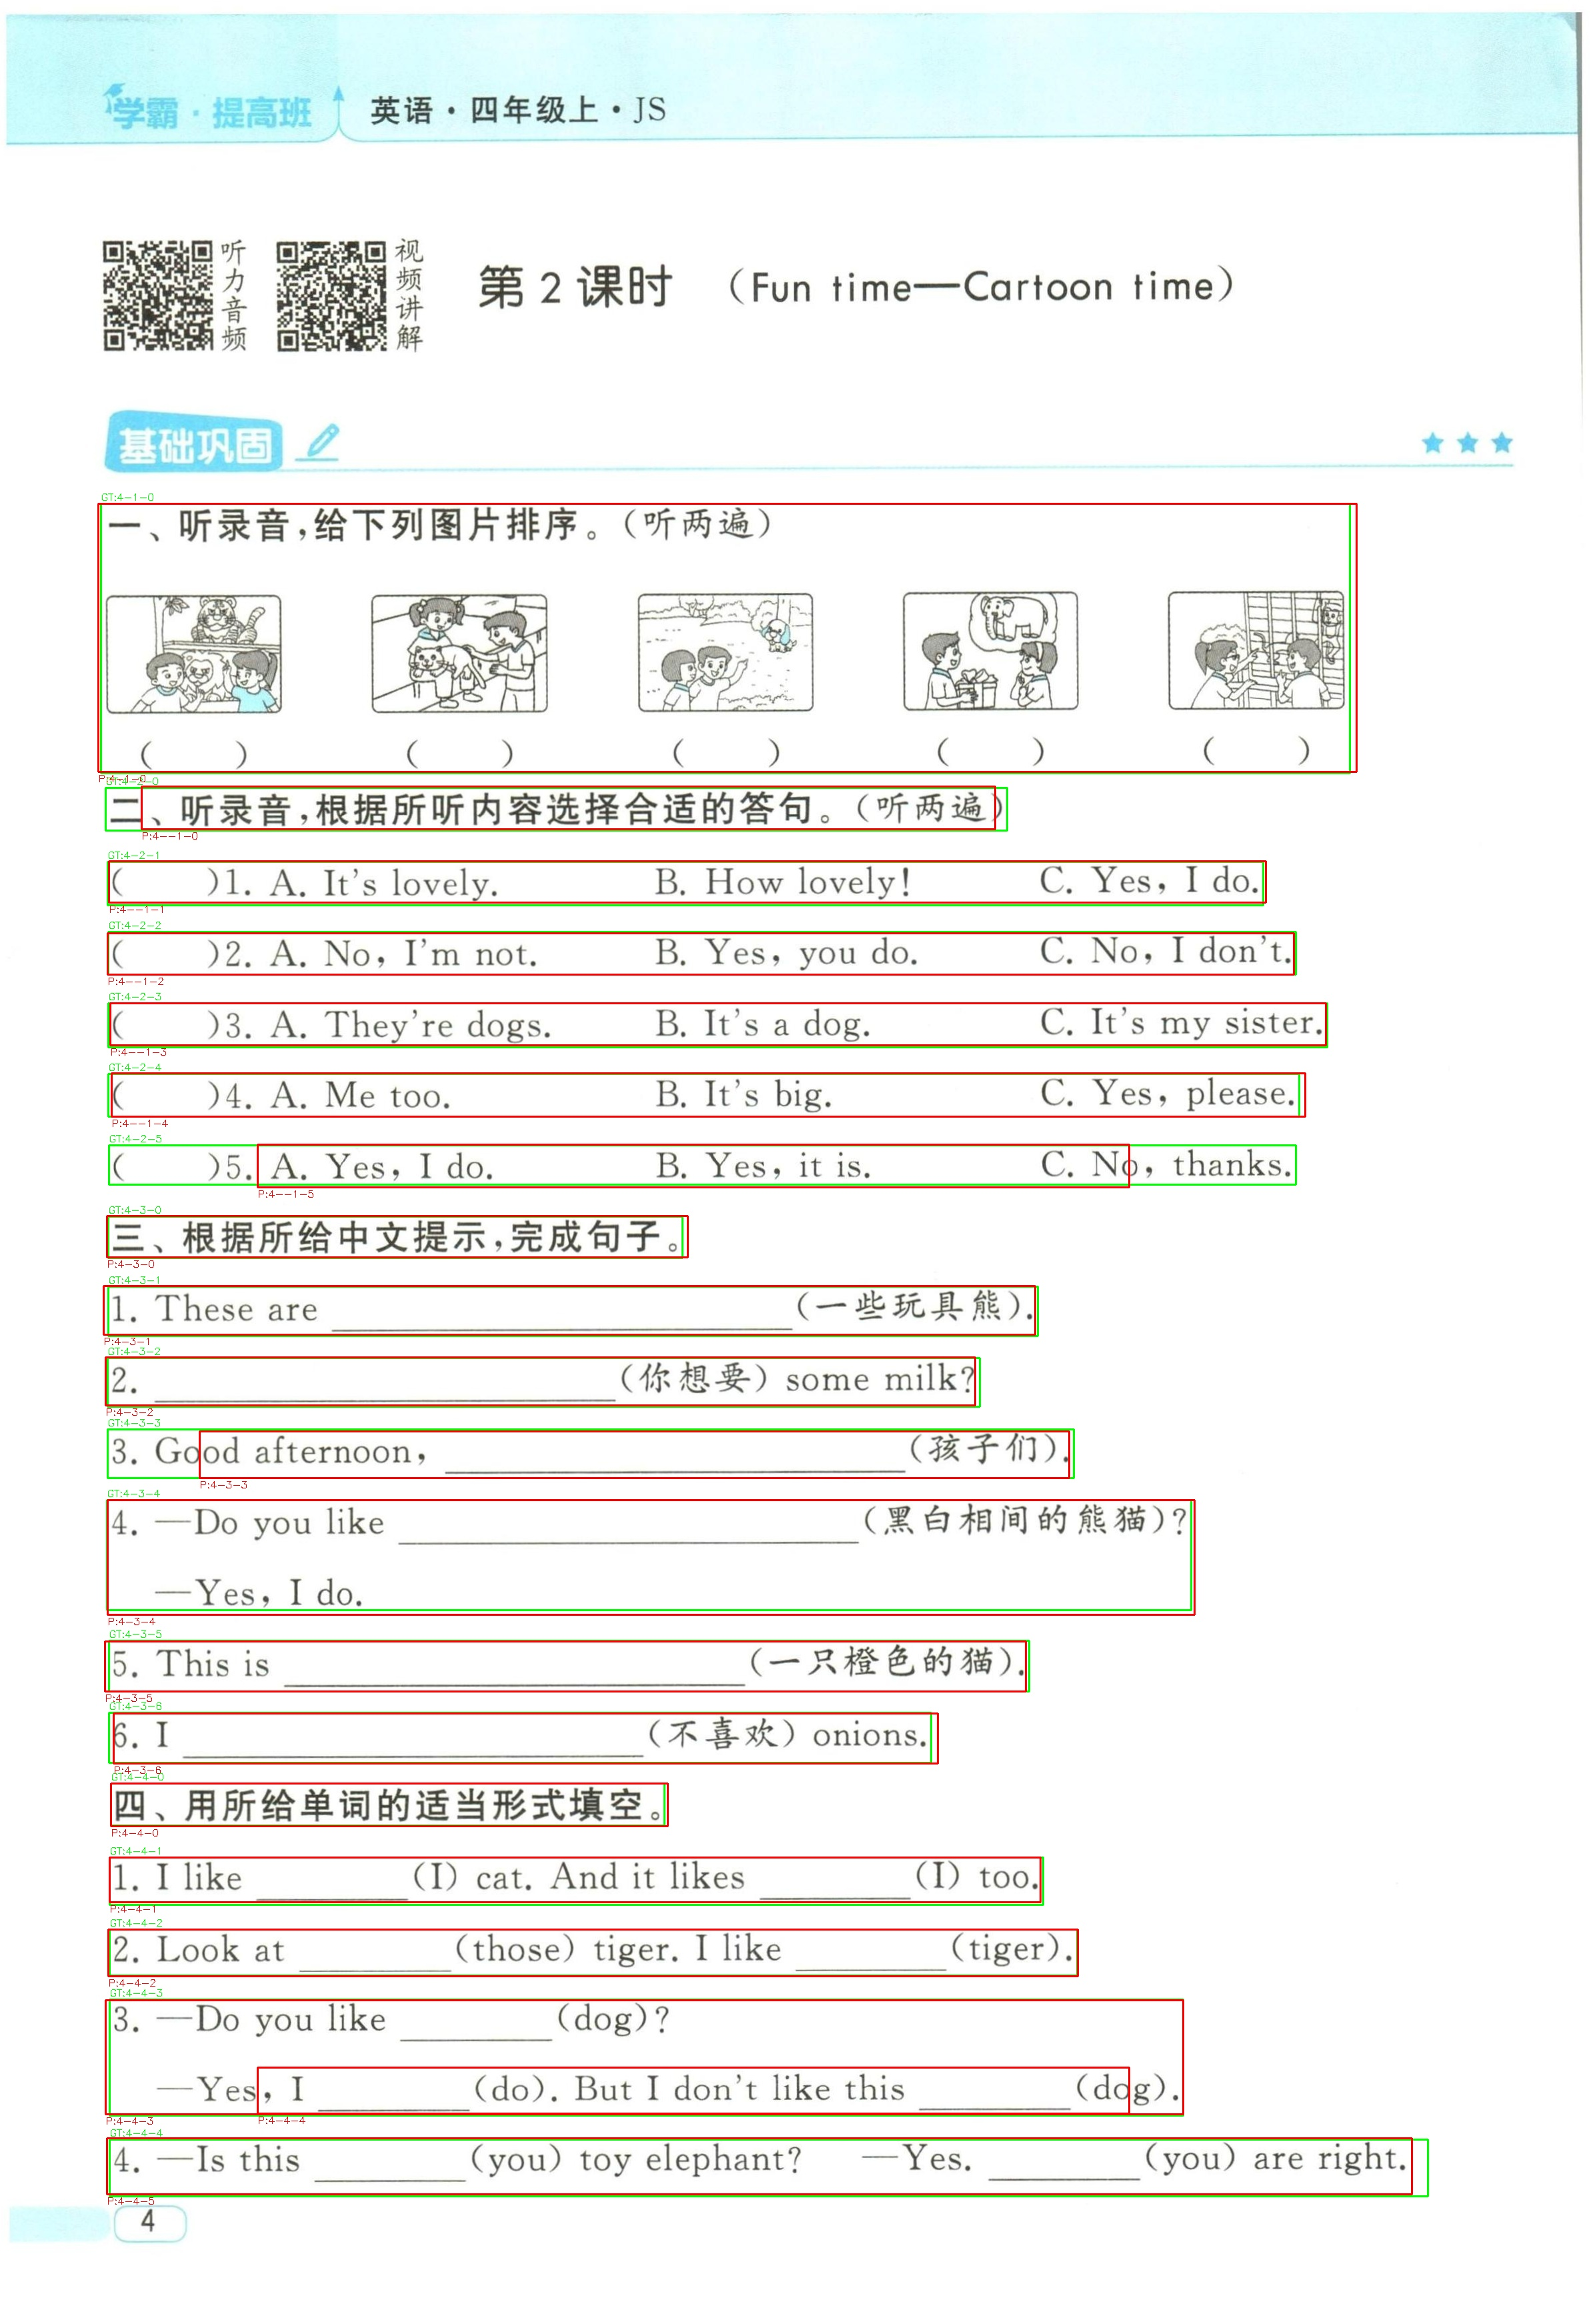4--1-0: (141, 786, 994, 828)
4--1-1: (109, 862, 1266, 902)
4--1-2: (108, 932, 1294, 975)
4--1-3: (109, 1003, 1326, 1045)
4--1-4: (111, 1074, 1305, 1116)
4--1-5: (258, 1144, 1128, 1187)
4-1-0: (99, 503, 1356, 772)
4-3-0: (106, 1215, 687, 1257)
4-3-1: (104, 1286, 1035, 1335)
4-3-2: (106, 1356, 975, 1406)
4-3-3: (200, 1430, 1068, 1478)
4-3-4: (108, 1499, 1194, 1614)
4-3-5: (104, 1641, 1026, 1692)
4-3-6: (113, 1713, 938, 1762)
4-4-0: (111, 1784, 667, 1826)
4-4-1: (109, 1858, 1040, 1902)
4-4-2: (108, 1928, 1077, 1976)
4-4-3: (106, 1999, 1183, 2114)
4-4-4: (258, 2068, 1128, 2114)
4-4-5: (106, 2139, 1411, 2193)
